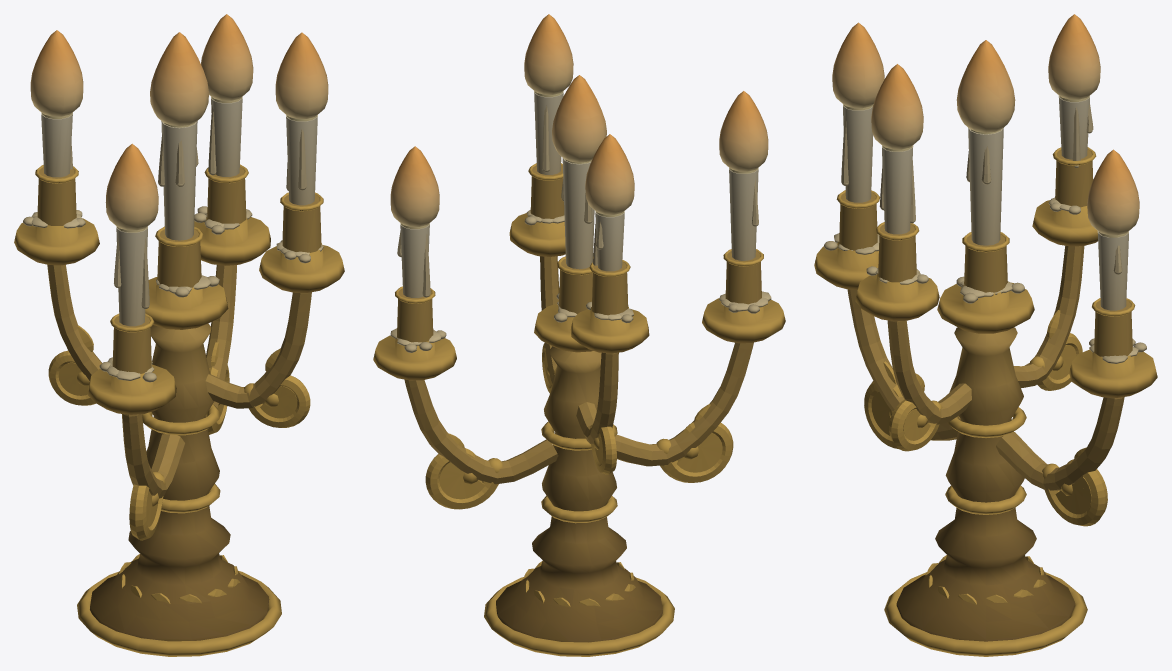
File: candelabra-branch.glb
3 views of the same model, side by side, from view 1: azimuth 30°, elevation 25°; view 2: azimuth 150°, elevation 25°; view 3: azimuth 270°, elevation 25° (orthographic). The views are drawn at different scales.
Visible parts, largest first — view 1: candelabra_branch; view 2: candelabra_branch; view 3: candelabra_branch.
Part boxes in pixels (box(x1,y1,x2,y2)): candelabra_branch: box(14, 14, 344, 656); candelabra_branch: box(373, 14, 785, 656); candelabra_branch: box(814, 14, 1157, 656).
Size of the model in its own units: 0.3239 by 0.619 by 0.3239.
